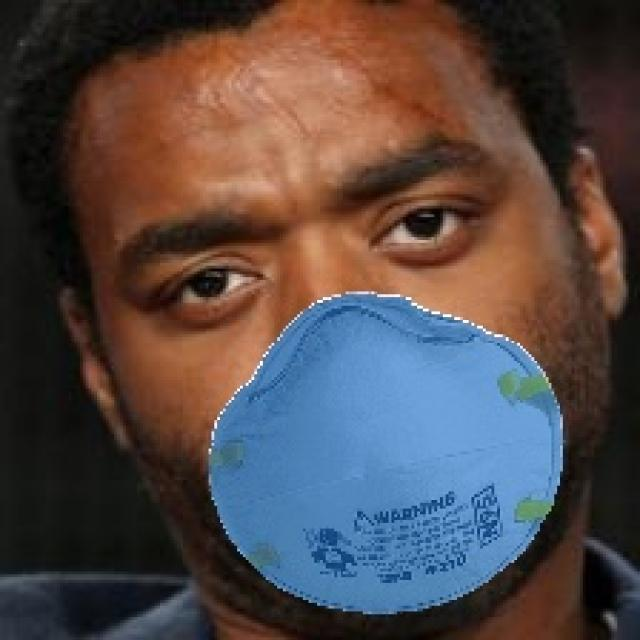mask: (196, 309, 574, 613)
